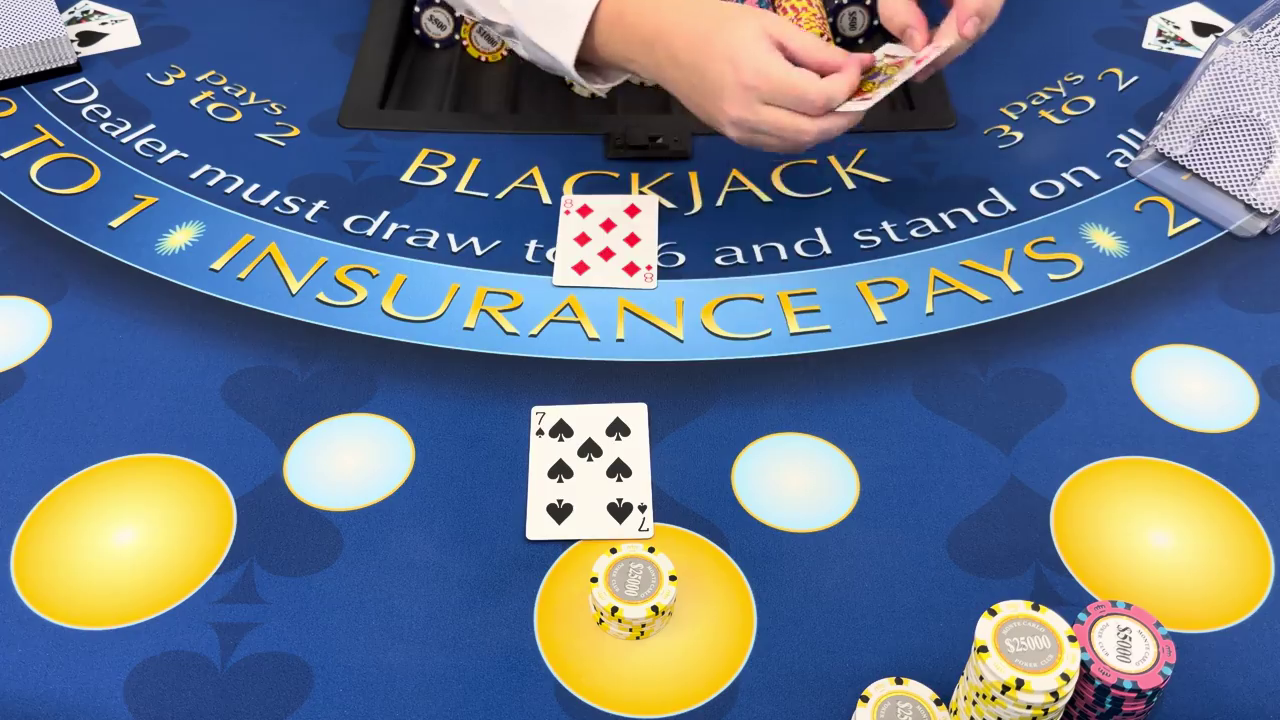7S: (634, 498, 653, 535), (530, 408, 548, 442)
8D: (641, 261, 656, 286), (562, 195, 575, 218)
